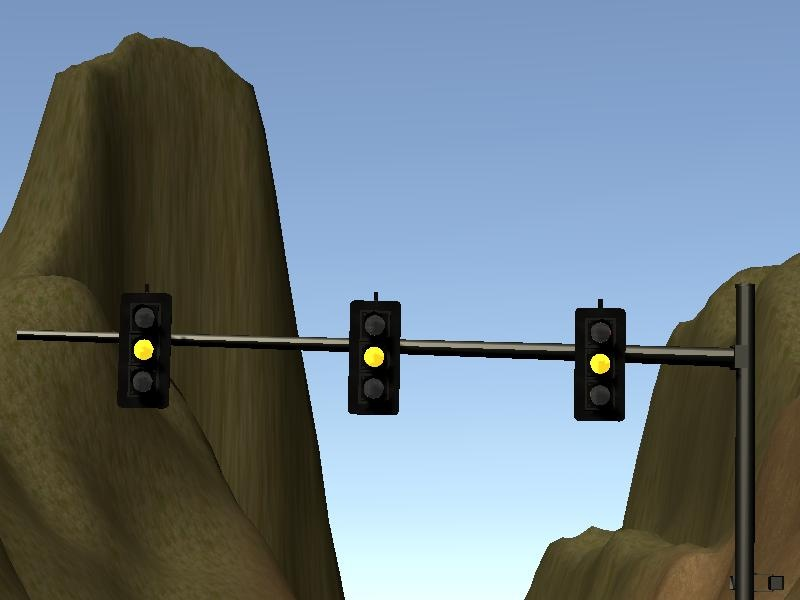yellow: (119, 293, 171, 408), (350, 301, 400, 416), (574, 307, 624, 422)
